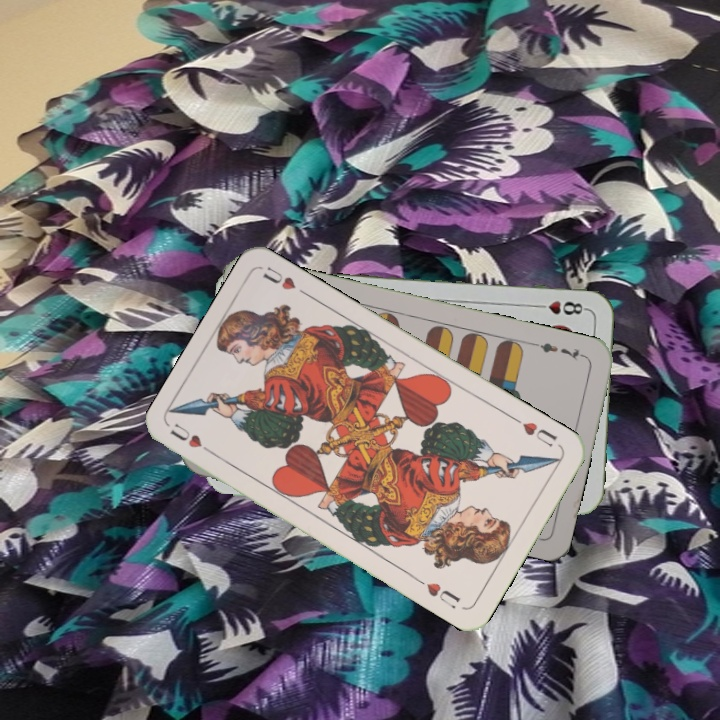E7: (530, 338, 588, 364)
H8: (529, 297, 589, 318)
HU: (166, 419, 219, 460), (509, 413, 560, 450)
